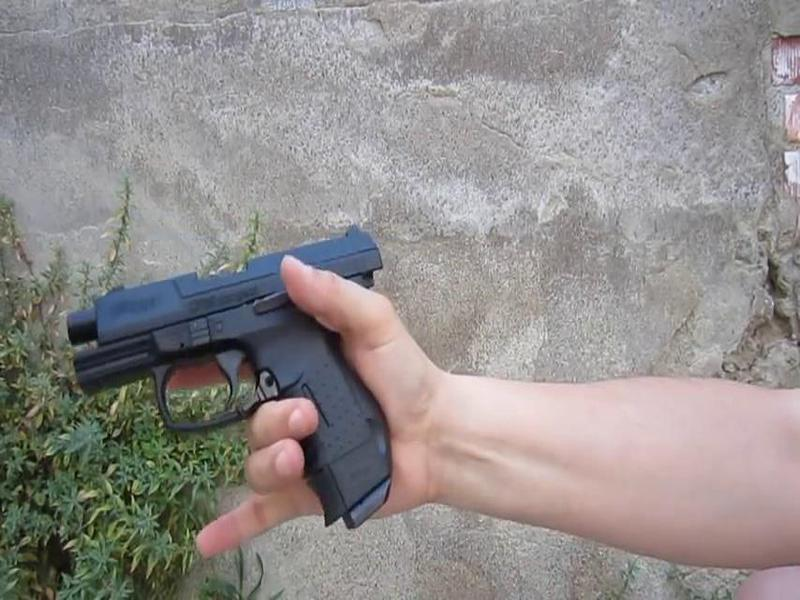Pistola: (41, 190, 429, 528)
